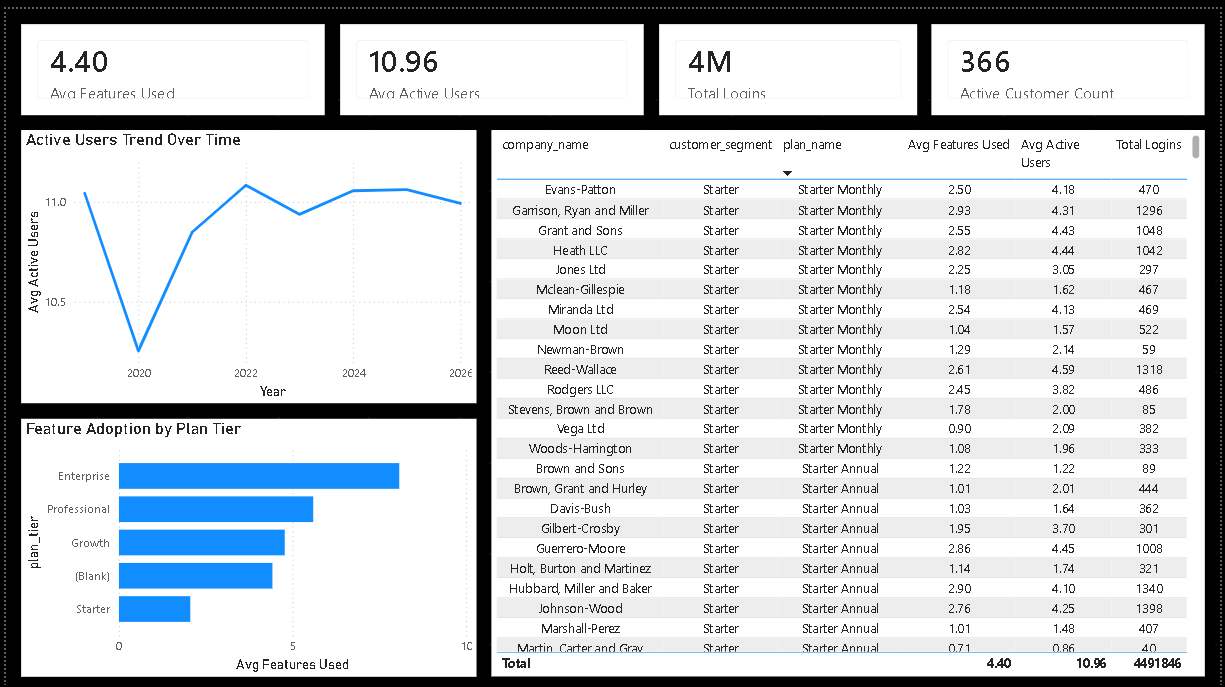

This screenshot's page, from the dashboard's own definition file:
{"tool":"powerbi","page":{"name":"Product Usage","canvas":[1280,720],"ordinal":3},"visuals":[{"type":"cardVisual","fields":{"Data":["_Measures.Avg Features Used"]},"box":[16,16,224,96],"z":0},{"type":"cardVisual","fields":{"Data":["_Measures.Avg Active Users"]},"box":[272,16,224,96],"z":1},{"type":"cardVisual","fields":{"Data":["_Measures.Total Logins"]},"box":[512,16,224,96],"z":2},{"type":"cardVisual","fields":{"Data":["_Measures.Active Customer Count"]},"box":[752,16,224,96],"z":3},{"type":"lineChart","title":"Active Users Trend Over Time","fields":{"Category":["public product_usage.usage_date.Variation.Date Hierarchy.Year","public product_usage.usage_date.Variation.Date Hierarchy.Month"],"Y":["_Measures.Avg Active Users"]},"box":[16,128,480,288],"z":4},{"type":"clusteredBarChart","title":"Feature Adoption by Plan Tier","fields":{"Category":["public plans.plan_tier"],"Y":["_Measures.Avg Features Used"]},"box":[16,432,480,288],"z":5},{"type":"tableEx","fields":{"Values":["public customers.company_name","public customers.customer_segment","public plans.plan_name","_Measures.Avg Features Used","_Measures.Avg Active Users","_Measures.Total Logins"]},"box":[512,128,768,592],"z":6}]}

Visuals, with their boxes in screenshot pixels (x1, y1, x2, y2), scaled from the page's 1280x720 canvas onto the 1225x687 screenshot:
cardVisual - _Measures.Avg Features Used: left=15, top=15, right=230, bottom=107
cardVisual - _Measures.Avg Active Users: left=260, top=15, right=475, bottom=107
cardVisual - _Measures.Total Logins: left=490, top=15, right=704, bottom=107
cardVisual - _Measures.Active Customer Count: left=720, top=15, right=934, bottom=107
"Active Users Trend Over Time" lineChart: left=15, top=122, right=475, bottom=397
"Feature Adoption by Plan Tier" clusteredBarChart: left=15, top=412, right=475, bottom=686
tableEx - public customers.company_name x public customers.customer_segment: left=490, top=122, right=1224, bottom=686
